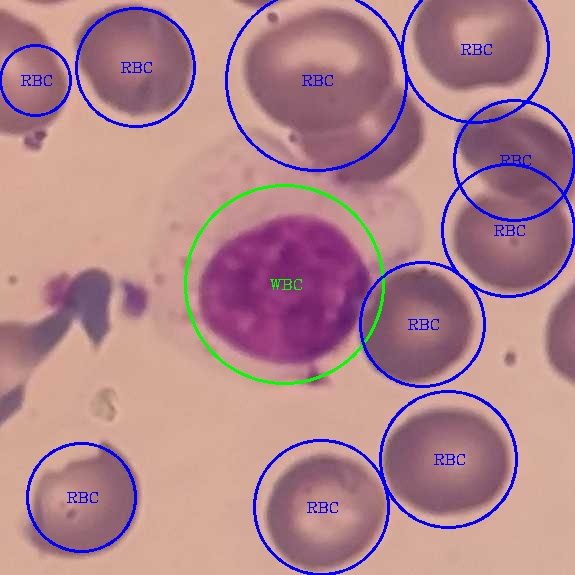RBC: (242, 2, 396, 134), (285, 77, 429, 194), (382, 401, 516, 520), (263, 449, 385, 573), (72, 3, 195, 122), (360, 264, 476, 390), (29, 438, 143, 563), (449, 184, 572, 294), (449, 96, 572, 203), (412, 0, 543, 94), (1, 6, 69, 140)
WBC: (137, 122, 429, 390)
